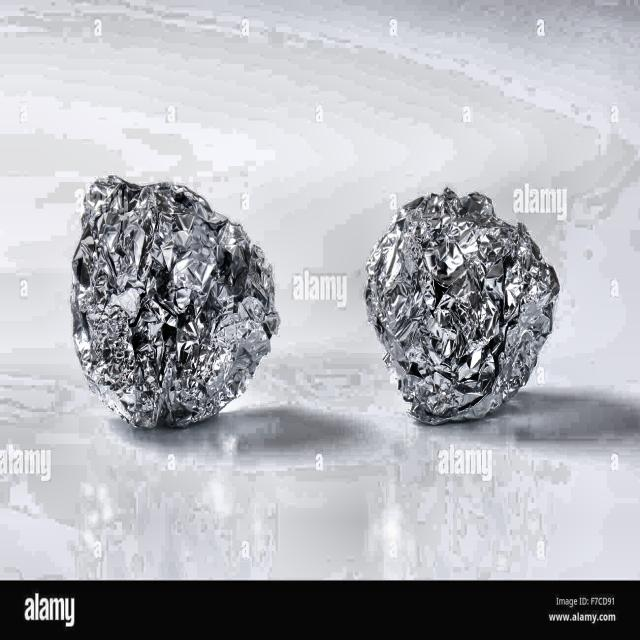Foil: (52, 160, 290, 444), (344, 160, 567, 437)
